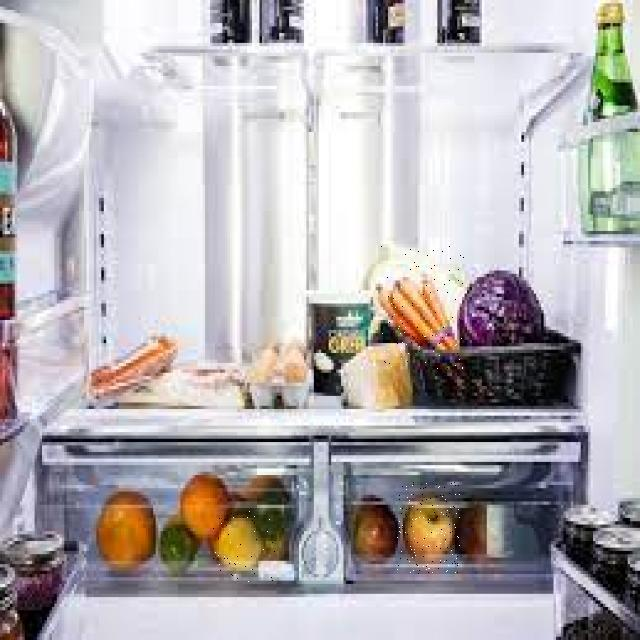apples: (397, 481, 460, 574)
carrots: (381, 246, 464, 369)
lemons: (213, 510, 276, 582)
